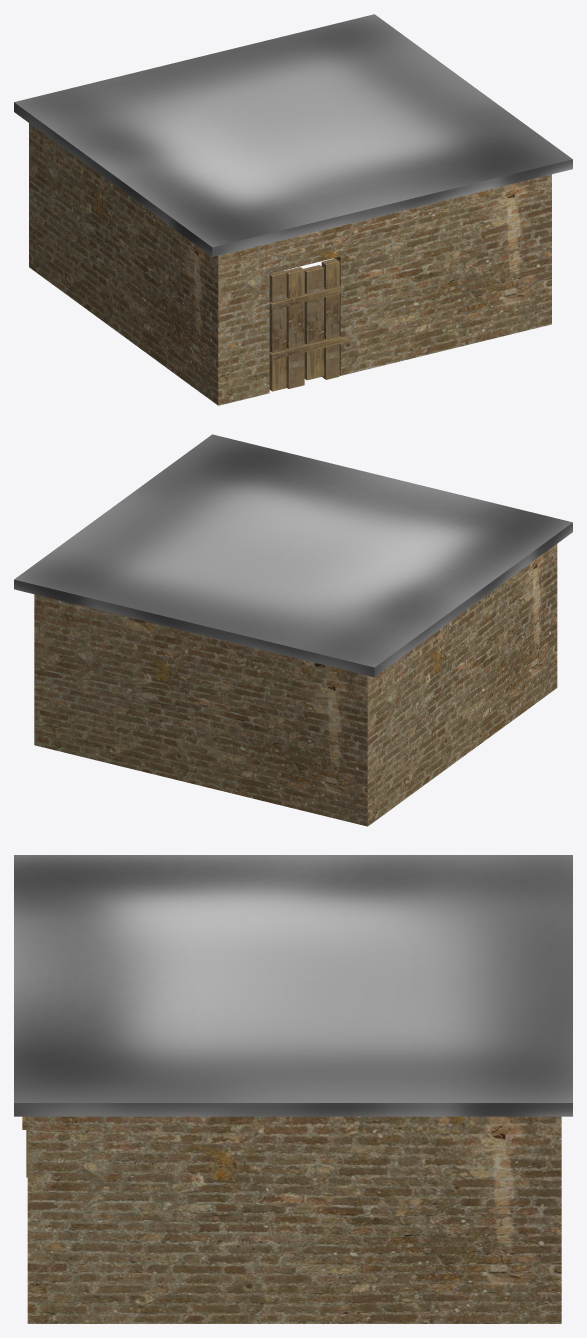
The model's file is House Tier 2.FBX.
3 renders of one model, top to bottom at view 1: azimuth 30°, elevation 25°; view 2: azimuth 150°, elevation 25°; view 3: azimuth 270°, elevation 25°, orthographic. The views are drawn at different scales.
Parts seen in each view (by area): view 1: Box003; view 2: Box003; view 3: Box003.
Boxes of the visible parts, box(x1,y1,x2,y2) form: Box003: box(14, 14, 572, 405); Box003: box(14, 434, 572, 826); Box003: box(14, 855, 572, 1323).
Size of the model in its own units: 237 by 103 by 225.
